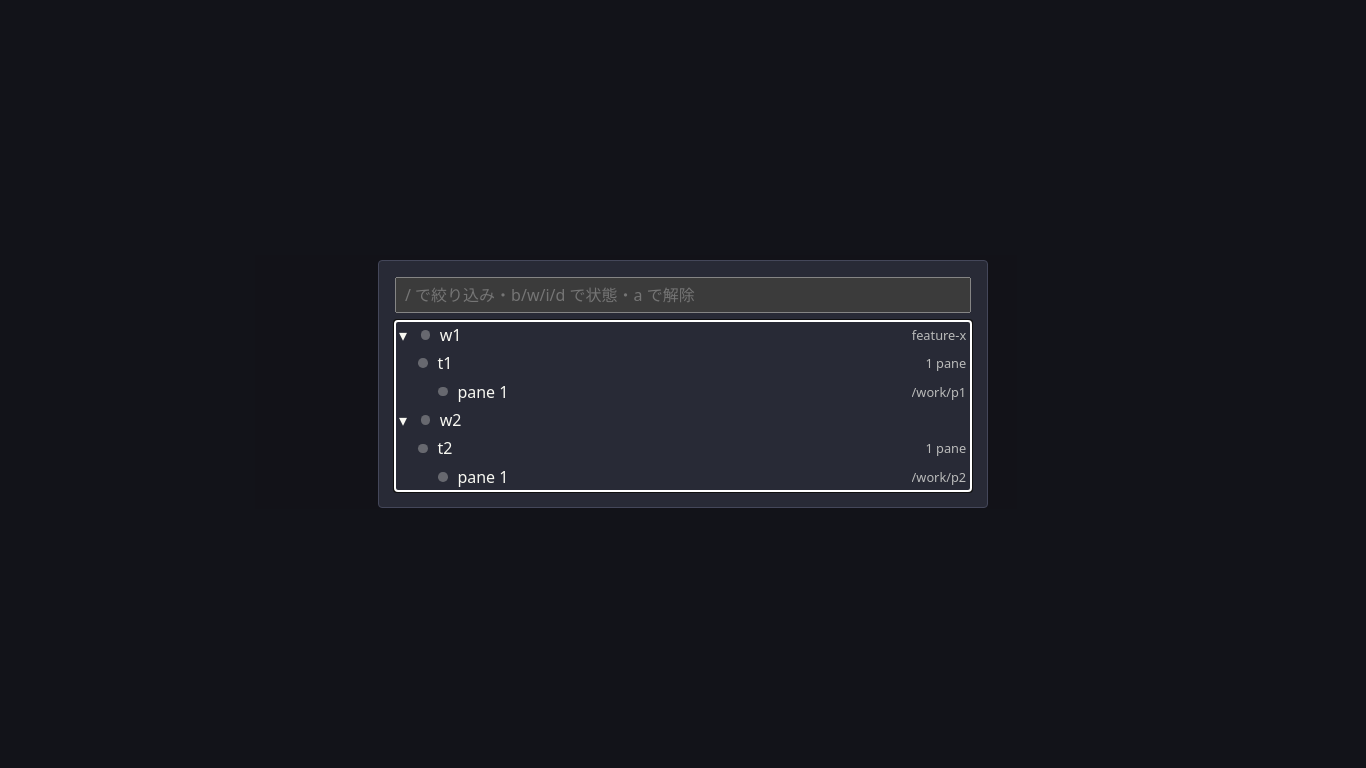
Test: GotoPicker — 文字の絞り込み › 名前・cwd・tab の名前・workspace のブランチで絞り込む
Type "feature-x" into the dropdown with placeholder "/ で絞り込み・b/w/i/d で状態・a で解除" at [683, 295], box [395,277,971,313]
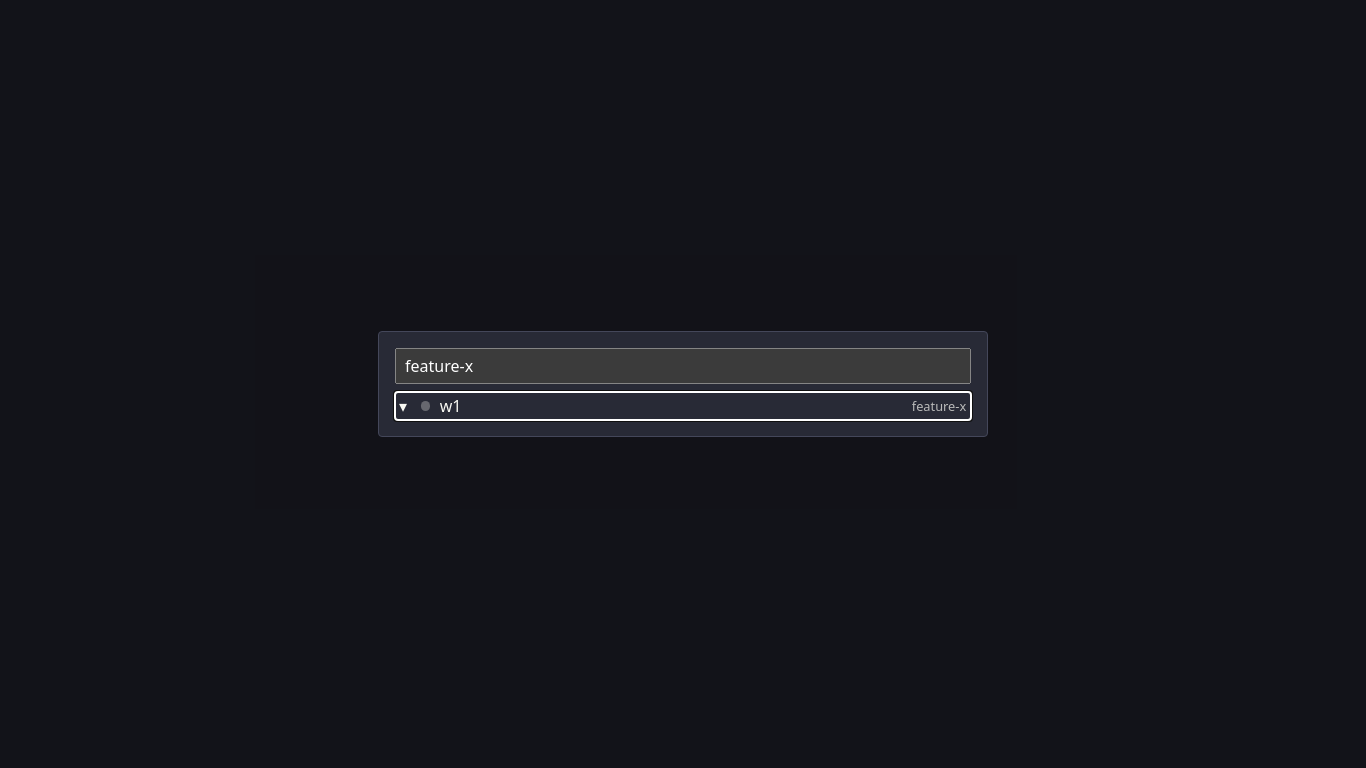
Expected: the elements with class "goto-picker-label" read "w1", in this order, [440,395,462,417]
